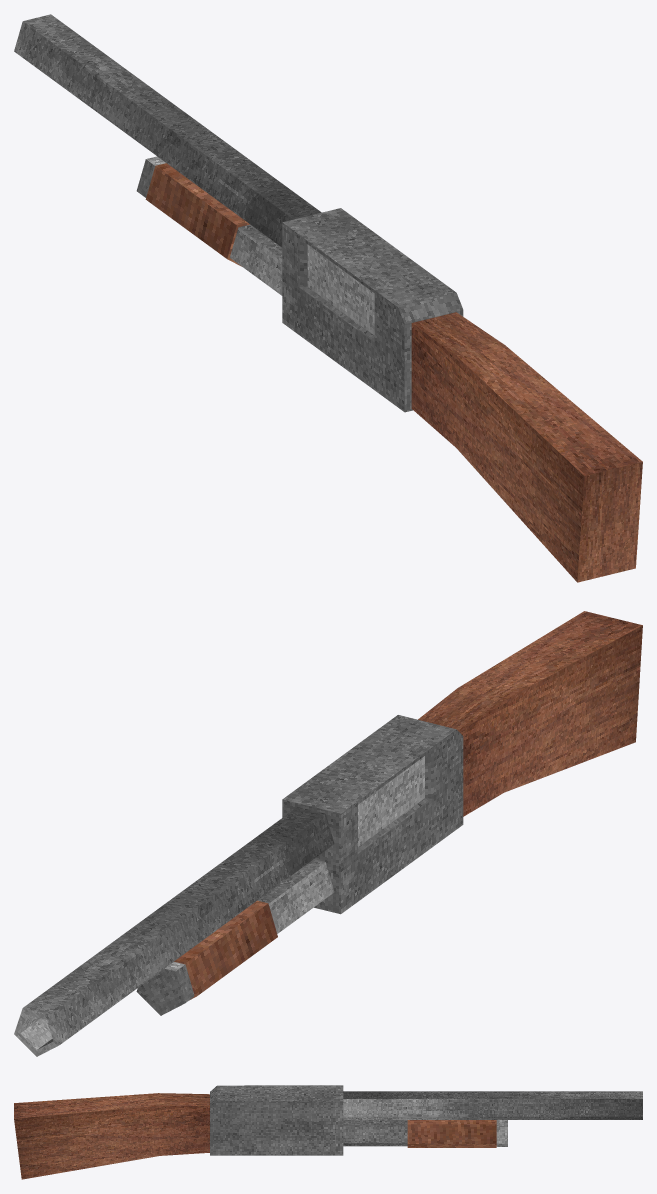
Rendered from shotgun2.glb.
3 renders of one model, top to bottom at view 1: azimuth 30°, elevation 25°; view 2: azimuth 150°, elevation 25°; view 3: azimuth 270°, elevation 25°, orthographic. The views are drawn at different scales.
Parts seen in each view (by area): view 1: shotgun, pump, eject; view 2: shotgun, pump, eject; view 3: shotgun, pump.
Boxes of the visible parts, x1,y1,x2,y2 form: shotgun: (14,14,642,582); pump: (145,163,249,266); eject: (307,245,374,335); shotgun: (14,611,642,1056); pump: (174,900,277,1000); eject: (358,756,424,846); shotgun: (14,1085,642,1179); pump: (407,1120,496,1147).
Bounding box in the file's own units: 1.09 × 2.57 × 18.58.
Materials: 1 (1 with a texture image).
